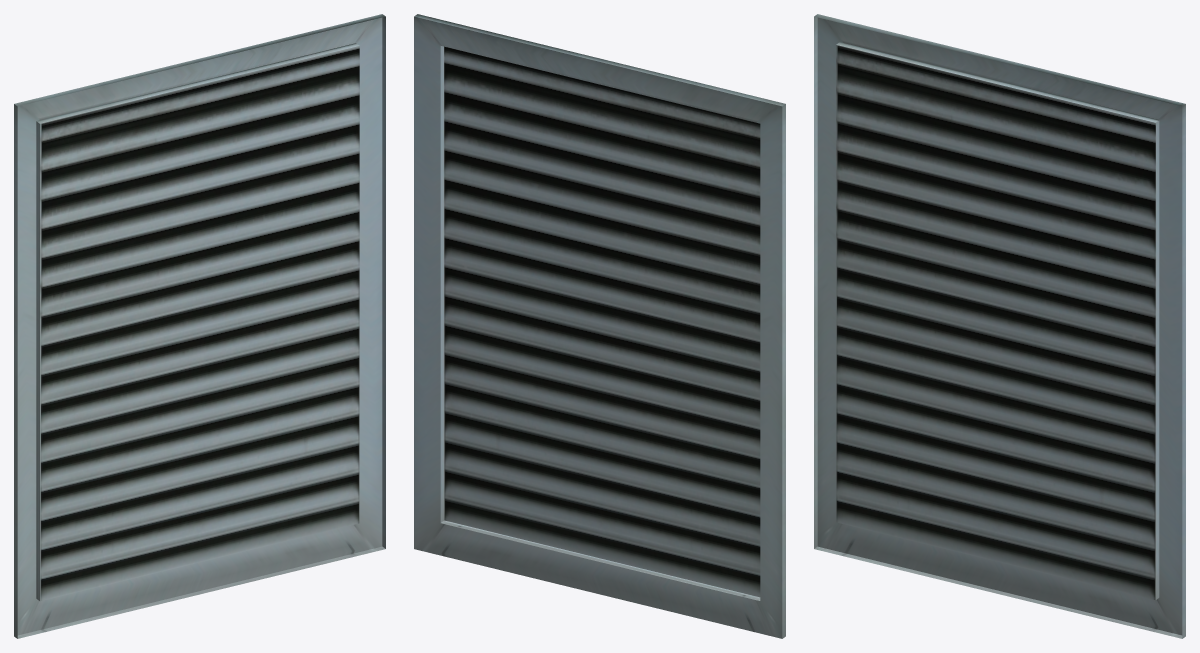
Rendered from Grill.fbx.
3 views of the same model, side by side, from view 1: azimuth 30°, elevation 25°; view 2: azimuth 150°, elevation 25°; view 3: azimuth 330°, elevation 25° (orthographic).
Parts seen in each view (by area): view 1: Grill; view 2: Grill; view 3: Grill.
Part boxes in pixels (box(x1,y1,x2,y2)): Grill: box(14, 14, 385, 638); Grill: box(414, 14, 785, 638); Grill: box(814, 14, 1185, 638).
Bounding box in the file's own units: 51.47 × 71.09 × 0.9119.
